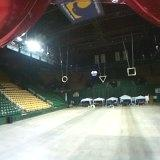Purple_Balloon: (90, 70, 98, 77)
Yellow_Circle_GShape: (61, 75, 69, 83)
Yellow_Square_GShape: (126, 67, 136, 77)
Yellow_Triangle_Gshape: (98, 75, 107, 83)
